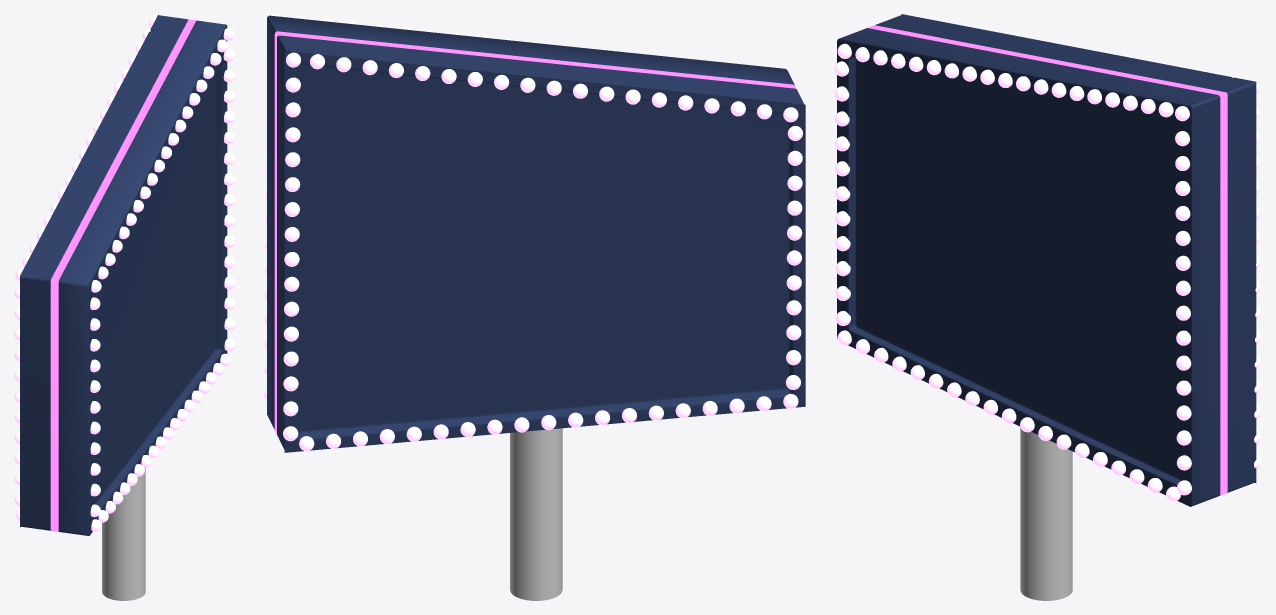
Rendered from Sign.fbx.
3 views of the same model, side by side, from view 1: azimuth 30°, elevation 25°; view 2: azimuth 150°, elevation 25°; view 3: azimuth 270°, elevation 25° (orthographic). The views are drawn at different scales.
Visible parts, largest first — view 1: BAR Sign; view 2: BAR Sign; view 3: BAR Sign.
Boxes of the visible parts, x1=… form: BAR Sign: x1=14, y1=14, x2=235, y2=600; BAR Sign: x1=264, y1=14, x2=805, y2=600; BAR Sign: x1=834, y1=14, x2=1261, y2=600.
Bounding box in the file's own units: 174 × 240 × 160.
